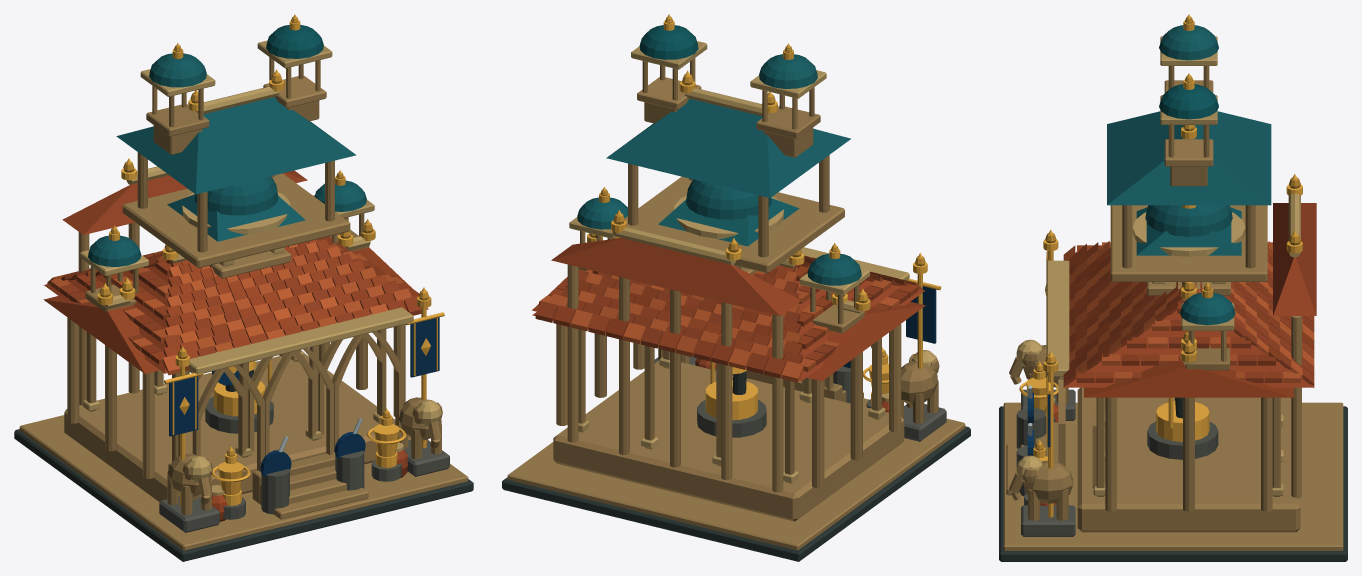
3 views of the same model, side by side, from view 1: azimuth 30°, elevation 25°; view 2: azimuth 150°, elevation 25°; view 3: azimuth 270°, elevation 25° (orthographic). The views are drawn at different scales.
Visible parts, largest first — view 1: hero_hall_level11_structure, hero_hall_level11_metal; view 2: hero_hall_level11_structure, hero_hall_level11_metal; view 3: hero_hall_level11_structure, hero_hall_level11_metal.
Part boxes in pixels (left/top/right/bottom): hero_hall_level11_structure: left=14, top=17, right=473, bottom=561; hero_hall_level11_metal: left=97, top=14, right=444, bottom=506; hero_hall_level11_structure: left=502, top=17, right=970, bottom=561; hero_hall_level11_metal: left=587, top=14, right=941, bottom=420; hero_hall_level11_structure: left=999, top=17, right=1347, bottom=561; hero_hall_level11_metal: left=1019, top=14, right=1302, bottom=517.
Size of the model in its own units: 5.6 by 7.9 by 5.6.
